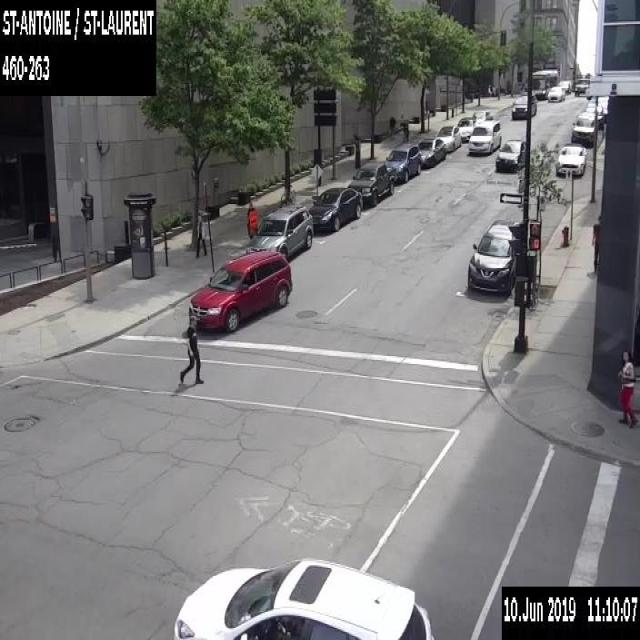bus: (531, 68, 558, 97)
construction: (311, 162, 322, 198), (246, 205, 258, 238)
pedestrian: (179, 310, 205, 386), (618, 350, 638, 430), (589, 212, 600, 271), (194, 210, 207, 258), (486, 84, 491, 95)
vehicle: (172, 554, 434, 638), (188, 250, 292, 332), (464, 217, 521, 299), (245, 202, 313, 260), (308, 186, 362, 230), (347, 160, 396, 205), (384, 142, 421, 182), (468, 119, 501, 153), (570, 110, 595, 151), (555, 142, 586, 175), (495, 138, 525, 172), (416, 136, 446, 166), (511, 90, 537, 120), (434, 124, 461, 150), (457, 115, 477, 142), (585, 100, 603, 129), (574, 76, 590, 96), (597, 94, 608, 122), (547, 84, 565, 101), (472, 108, 492, 122), (556, 79, 572, 93)
